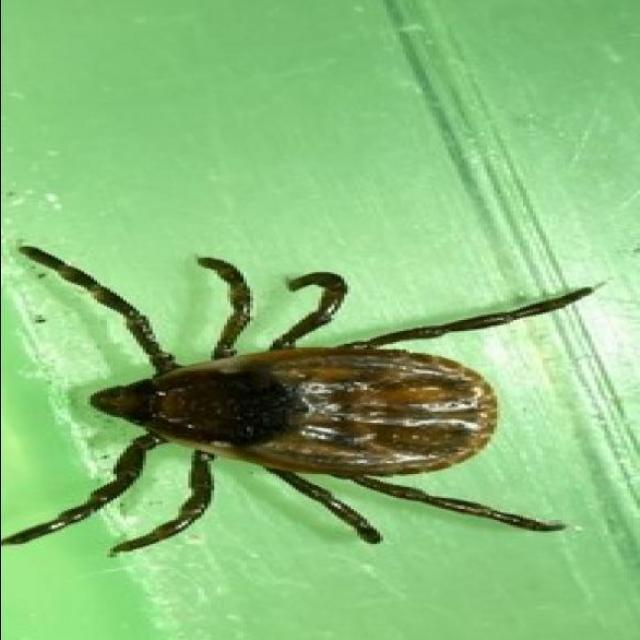Rhipicephalus Sanguineus-F: (0, 247, 597, 558)
